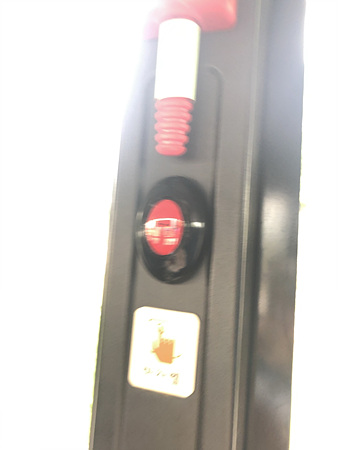bell: (137, 178, 211, 283)
